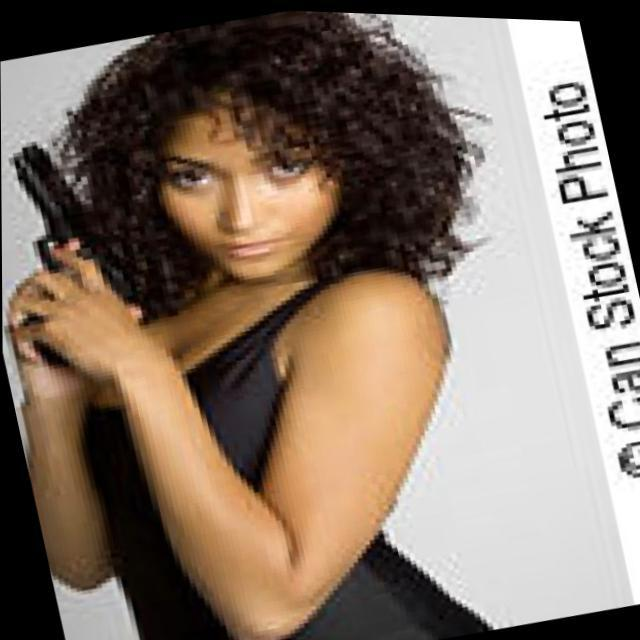weapon: (1, 123, 144, 376)
